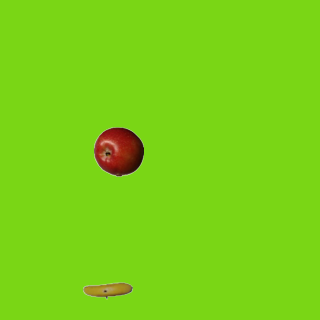Apple Braeburn: (93, 126, 143, 176)
Banana: (82, 265, 132, 315)
